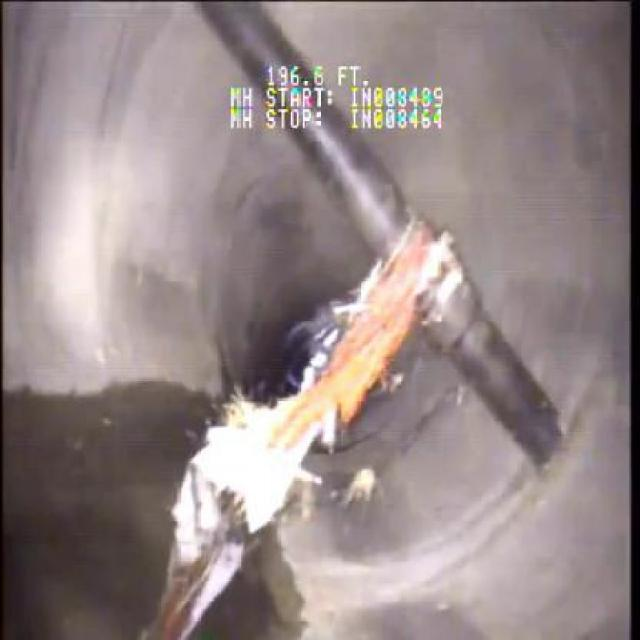Utility intrusion: (352, 212, 568, 474), (194, 2, 406, 209)
